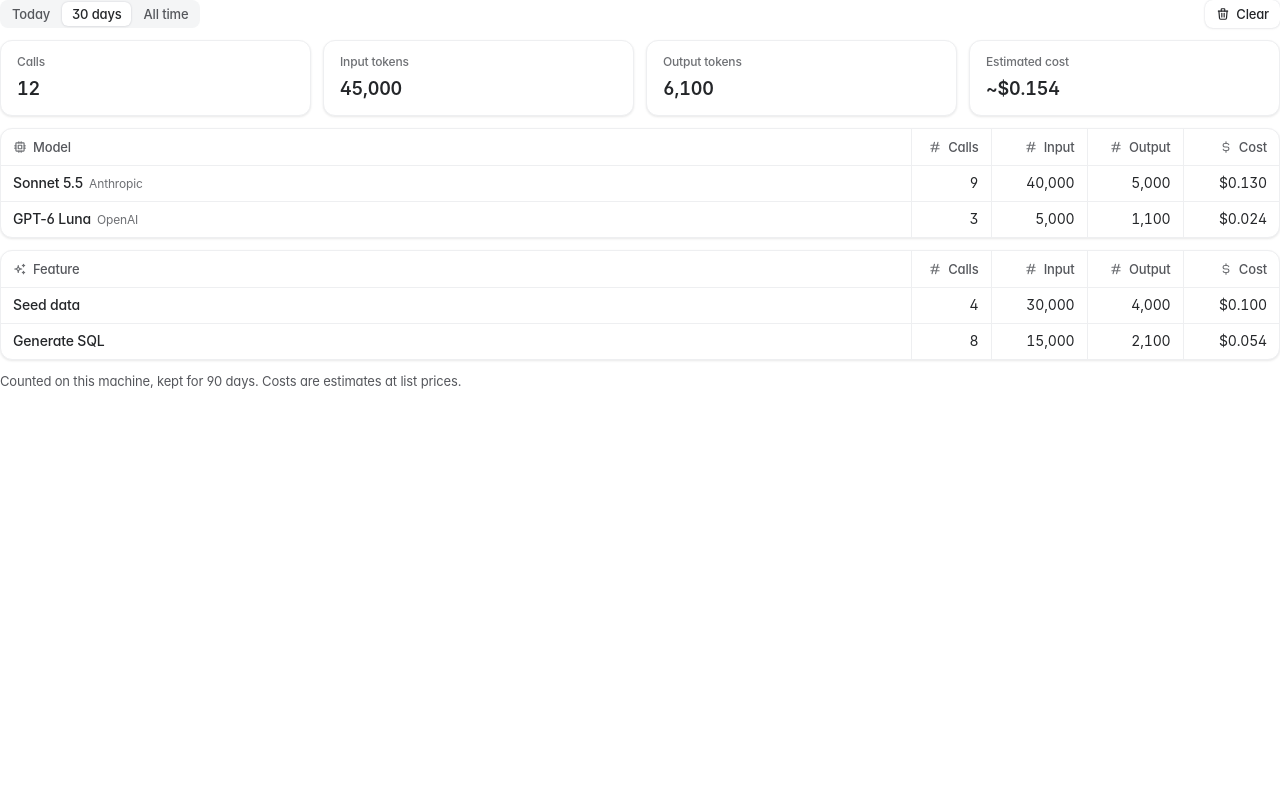
Test case: clearing › asks first, since the counts exist nowhere else
Click the button "Clear".
click(1243, 14)  # box [1205,0,1279,28]
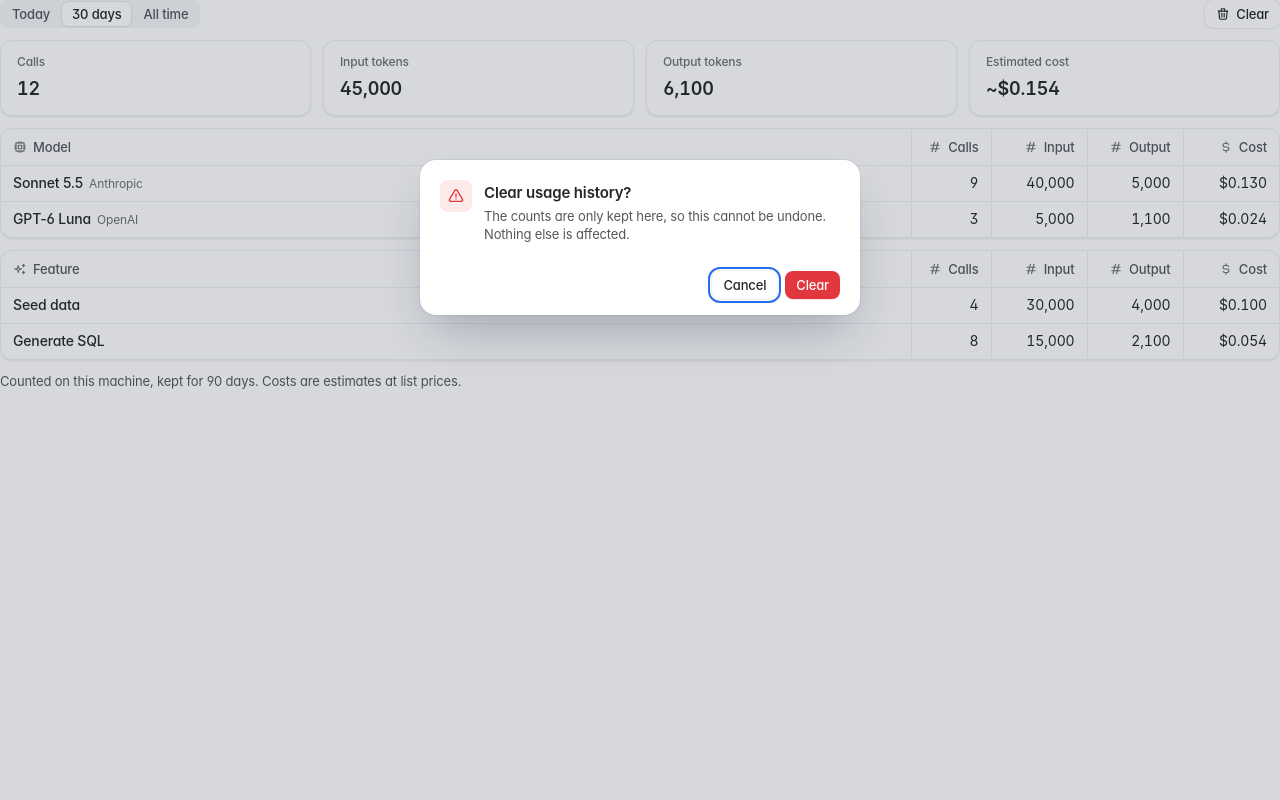
Now the heading "Clear usage history?" is shown, box [484,183,631,202]
